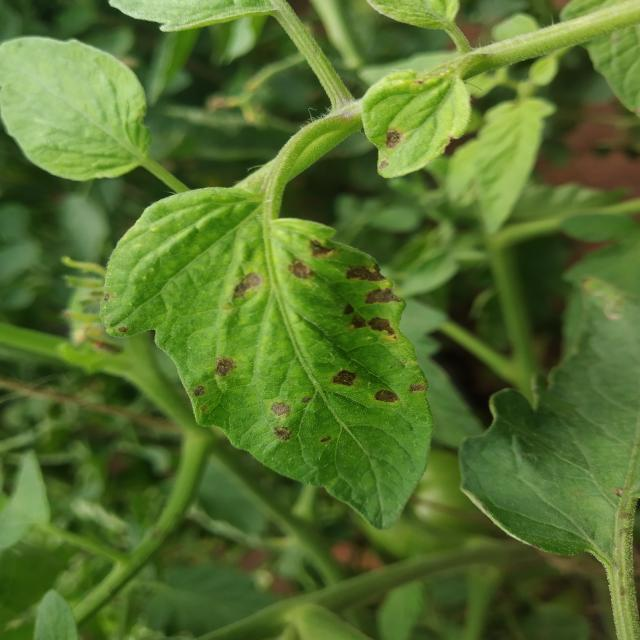Tomato mosaic virus leaf: (99, 185, 439, 531), (355, 65, 473, 178)
